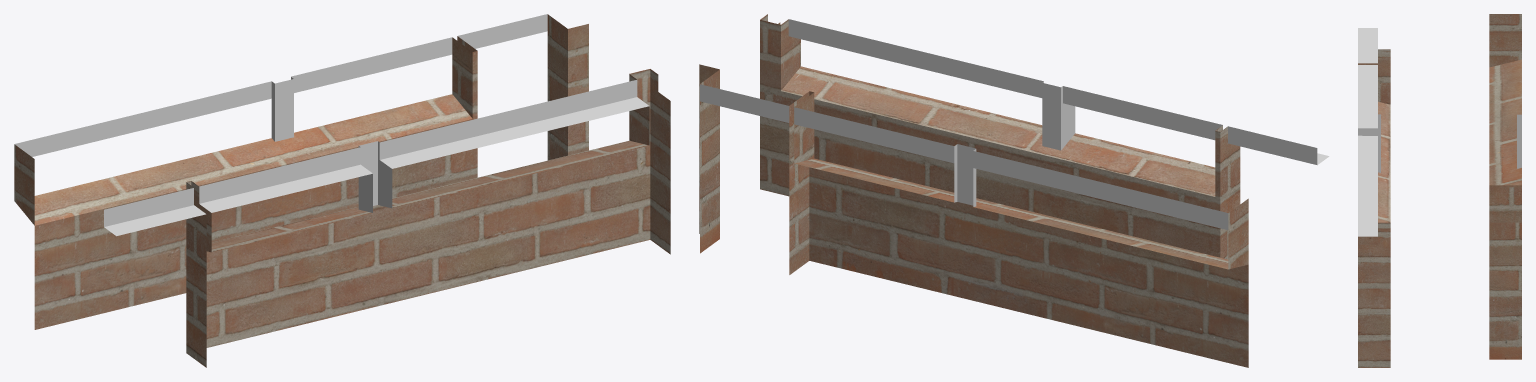
Rendered from grupoModuloPasillo.fbx.
3 views of the same model, side by side, from view 1: azimuth 30°, elevation 25°; view 2: azimuth 150°, elevation 25°; view 3: azimuth 270°, elevation 25° (orthographic). The views are drawn at different scales.
Parts seen in each view (by area): view 1: PasilloLadrillos, PasilloPared; view 2: PasilloLadrillos, PasilloPared; view 3: PasilloLadrillos, PasilloPared.
Part boxes in pixels (x1,y1,x2,y2): PasilloLadrillos: (14, 14, 670, 367); PasilloPared: (14, 14, 649, 236); PasilloLadrillos: (699, 14, 1248, 367); PasilloPared: (700, 19, 1329, 229); PasilloLadrillos: (1358, 14, 1521, 367); PasilloPared: (1358, 28, 1521, 236).
Bounding box in the file's own units: 990 × 292 × 316.
Materials: 2 (1 with a texture image).
